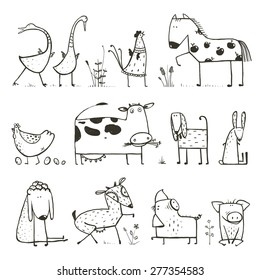animal: (69, 100, 161, 166), (169, 16, 254, 86), (73, 180, 139, 246), (149, 192, 202, 245), (211, 197, 251, 247), (220, 110, 252, 169)
bird: (52, 13, 93, 89), (12, 20, 54, 87), (110, 28, 152, 86), (8, 121, 60, 165)
dog: (14, 179, 67, 245), (172, 107, 216, 164)
